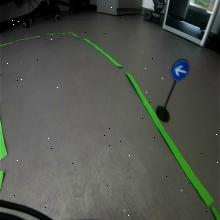left: (170, 59, 190, 81)
